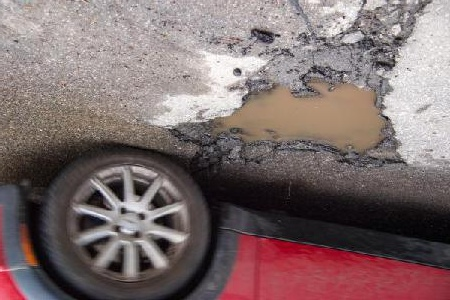pothole: (166, 75, 409, 170)
